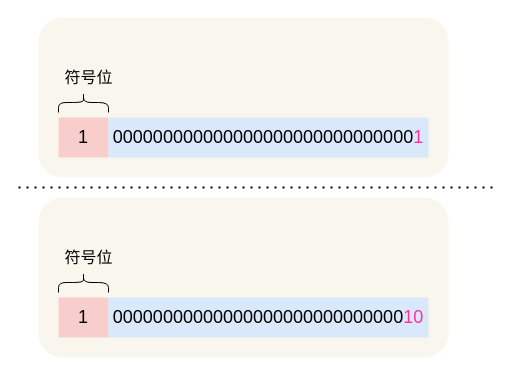
Image size: 517x374. Some labels were removed from this diagram. The shapes that lost their labels are listed below. From the top down, each one's box as (x1, y1, x2, y2) in pixels, then its label:
(38, 17, 448, 177): -1 的二进制 （非补码表示方式）
(38, 197, 448, 357): -2 的二进制 （非补码表示方式）
